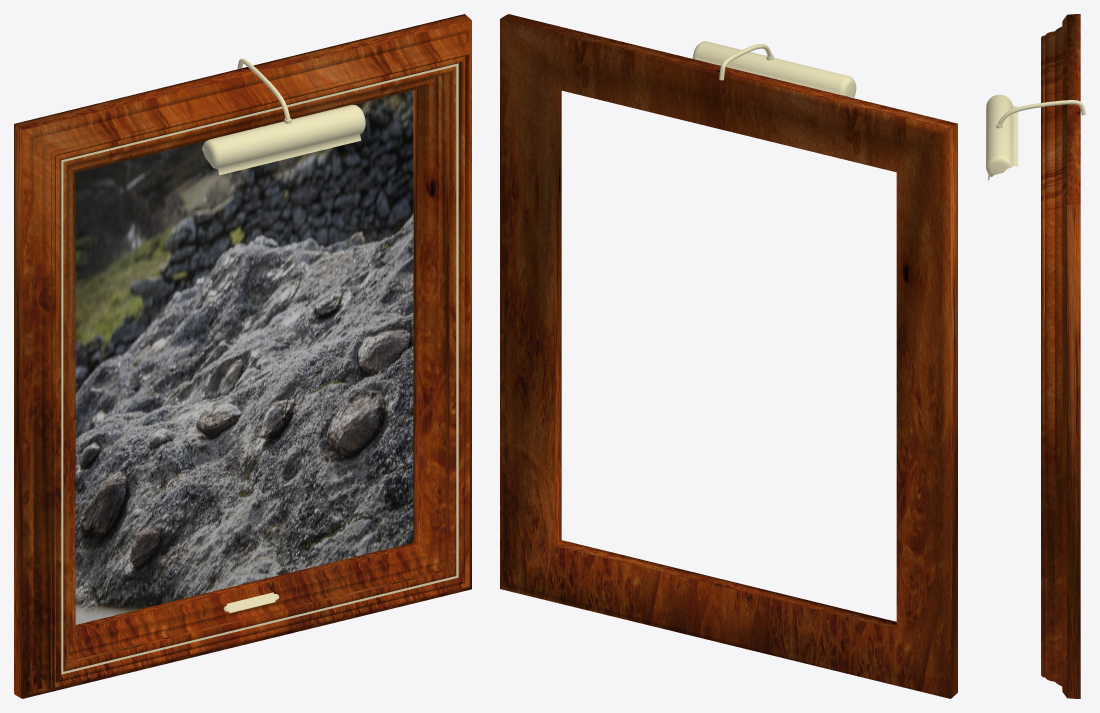
The model's file is PIC-FRAME-FBX.gltf.
3 renders of one model, left to right at view 1: azimuth 30°, elevation 25°; view 2: azimuth 150°, elevation 25°; view 3: azimuth 270°, elevation 25°, orthographic. The views are drawn at different scales.
Visible parts, largest first — view 1: painting, frame, Cylinder.3, gold trim; view 2: frame, Cylinder.3; view 3: frame, Cylinder.3, Sweep NURBS.
Part boxes in pixels (left/top/right/bottom): painting: left=75, top=90, right=413, bottom=624; frame: left=14, top=14, right=471, bottom=698; Cylinder.3: left=202, top=104, right=365, bottom=175; gold trim: left=61, top=63, right=458, bottom=674; frame: left=500, top=14, right=957, bottom=698; Cylinder.3: left=692, top=41, right=856, bottom=97; frame: left=1041, top=14, right=1080, bottom=698; Cylinder.3: left=986, top=94, right=1018, bottom=180; Sweep NURBS: left=997, top=100, right=1085, bottom=125.
Bounding box in the file's own units: 4.23 × 5.22 × 0.9358.
Materials: 5 (2 with a texture image).
